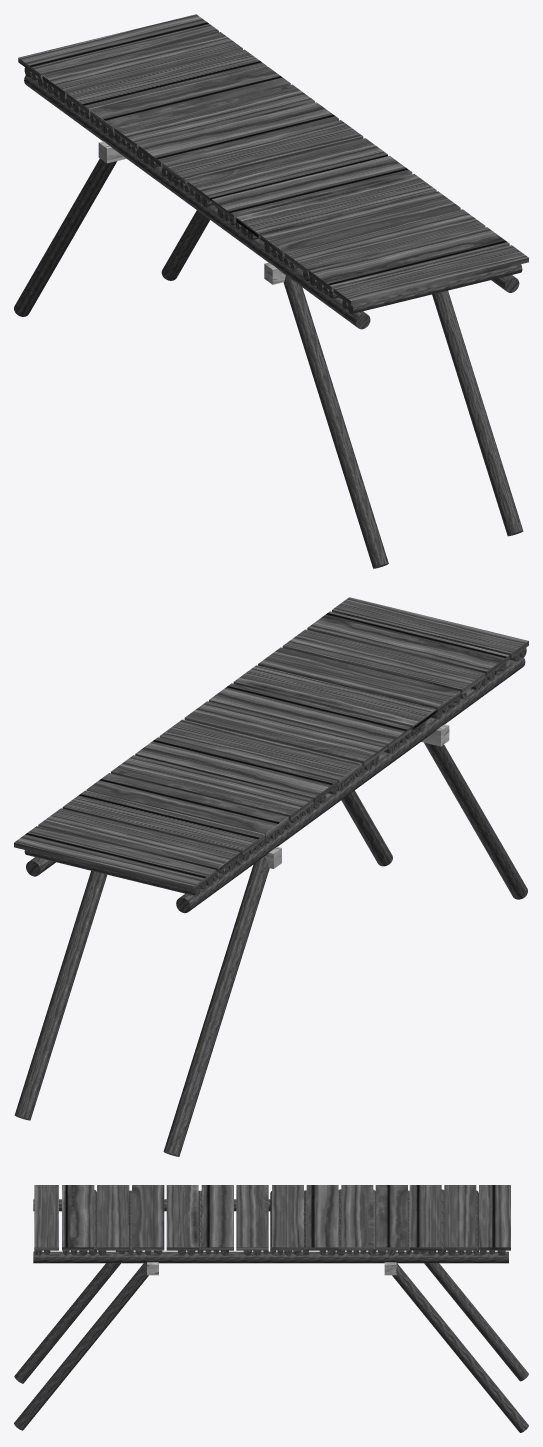
The model's file is Wood_Bridge.fbx.
3 renders of one model, top to bottom at view 1: azimuth 30°, elevation 25°; view 2: azimuth 150°, elevation 25°; view 3: azimuth 270°, elevation 25°, orthographic. The views are drawn at different scales.
Parts seen in each view (by area): view 1: Cylinder.054; view 2: Cylinder.054; view 3: Cylinder.054.
Boxes of the visible parts, left/top/right/bottom form: Cylinder.054: left=14, top=14, right=528, bottom=568; Cylinder.054: left=14, top=597, right=528, bottom=1156; Cylinder.054: left=14, top=1185, right=528, bottom=1432.
Bounding box in the file's own units: 2478 × 3542 × 8660.
